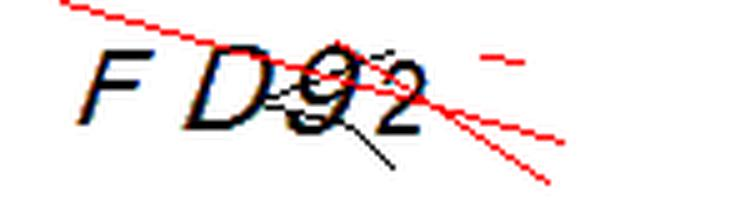2: (366, 55, 434, 145)
9: (282, 40, 367, 147)
D: (175, 37, 280, 139)
F: (72, 40, 161, 132)
